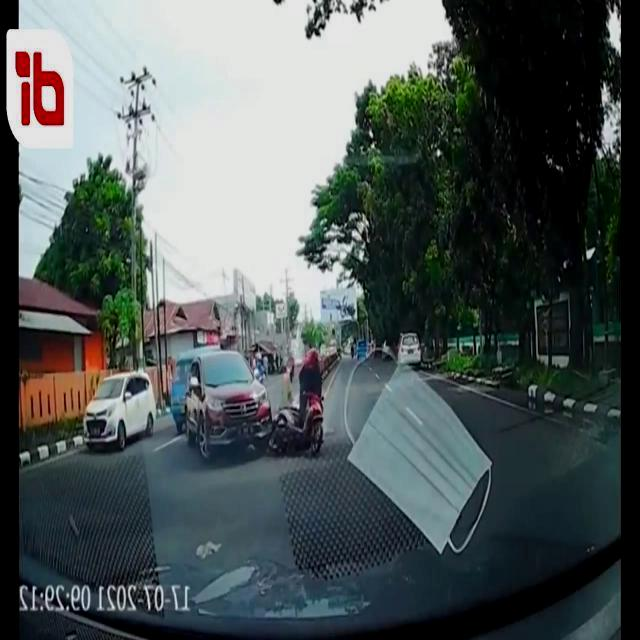accident: (185, 351, 323, 451)
